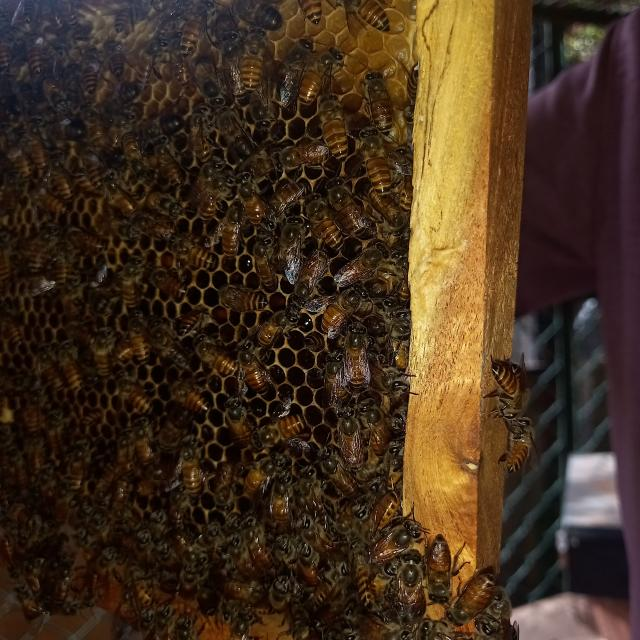honeybee: (341, 66, 398, 140), (350, 123, 410, 193), (228, 27, 277, 102), (252, 396, 310, 458), (190, 56, 274, 97), (311, 85, 356, 161), (305, 551, 352, 622), (354, 555, 400, 623), (210, 102, 259, 165), (355, 182, 413, 235), (266, 36, 307, 108), (298, 46, 336, 123), (370, 556, 427, 607), (421, 529, 456, 608), (333, 329, 373, 398), (304, 189, 346, 253), (162, 237, 225, 279), (217, 395, 265, 450), (238, 170, 278, 236), (361, 489, 404, 550), (118, 558, 157, 625), (307, 284, 360, 332), (249, 58, 282, 134), (446, 566, 490, 621), (334, 243, 384, 290), (316, 445, 357, 501), (370, 515, 420, 560), (326, 188, 367, 242), (156, 325, 197, 378), (338, 0, 393, 39), (128, 106, 184, 144), (486, 362, 522, 421), (18, 220, 54, 277), (217, 199, 248, 265), (394, 562, 426, 624), (77, 102, 110, 162), (505, 412, 537, 473), (356, 400, 389, 459), (240, 456, 277, 508), (336, 410, 368, 470), (143, 144, 184, 190), (206, 170, 238, 228), (277, 209, 302, 283), (26, 113, 54, 178), (175, 441, 207, 496), (188, 102, 216, 164), (310, 497, 344, 548), (228, 0, 280, 33), (135, 33, 164, 91), (391, 256, 419, 316), (26, 40, 54, 100), (292, 246, 324, 298), (221, 282, 267, 318), (130, 209, 177, 244), (177, 549, 203, 612), (147, 263, 189, 302), (298, 514, 332, 560), (100, 175, 134, 220), (357, 469, 384, 525), (88, 544, 116, 598), (182, 0, 209, 56), (10, 138, 36, 196), (198, 340, 236, 379), (192, 156, 221, 207), (373, 362, 408, 404), (274, 140, 330, 166), (270, 478, 294, 538), (246, 534, 277, 580), (389, 304, 410, 371), (106, 75, 144, 112), (152, 540, 178, 594), (252, 242, 278, 296), (479, 588, 507, 638), (402, 54, 423, 120), (259, 309, 289, 355), (66, 434, 90, 491), (50, 22, 89, 56), (266, 570, 293, 619), (120, 253, 144, 308), (78, 41, 102, 96), (236, 351, 268, 391), (213, 459, 241, 504), (103, 36, 129, 84), (85, 508, 112, 554), (41, 350, 68, 396), (64, 227, 104, 258), (23, 404, 52, 446), (57, 348, 84, 393), (0, 528, 22, 582), (63, 149, 90, 193), (42, 576, 72, 615), (25, 558, 51, 603), (220, 580, 265, 606), (293, 532, 313, 590), (113, 0, 146, 35), (16, 273, 58, 300), (41, 76, 70, 115), (15, 576, 41, 618), (171, 307, 206, 338), (124, 326, 150, 367), (285, 613, 324, 640), (418, 621, 473, 640), (44, 250, 70, 290), (110, 512, 132, 559), (71, 494, 96, 534), (88, 333, 112, 373), (35, 189, 68, 218), (137, 606, 165, 640), (384, 400, 409, 438), (132, 528, 154, 571), (74, 263, 109, 290), (294, 0, 328, 27), (1, 78, 25, 115), (131, 426, 153, 466), (340, 602, 363, 640), (500, 609, 528, 640), (130, 389, 159, 418), (150, 192, 178, 222), (154, 602, 176, 640), (166, 488, 186, 528), (386, 434, 408, 470), (112, 338, 136, 371), (176, 390, 207, 415), (175, 613, 202, 640), (204, 520, 225, 554), (56, 0, 79, 31), (32, 463, 51, 500), (132, 475, 156, 503), (122, 134, 143, 166), (77, 407, 100, 436), (93, 465, 114, 495), (232, 603, 247, 640), (6, 314, 22, 348), (18, 0, 38, 26), (386, 627, 420, 640), (0, 37, 12, 73), (219, 560, 235, 584), (296, 244, 297, 249)
